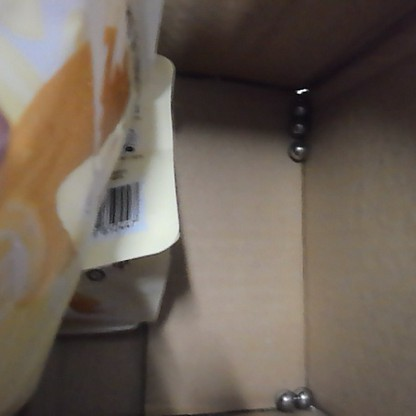ironball: (270, 383, 295, 411), (287, 138, 311, 162), (287, 114, 310, 137), (293, 382, 315, 406), (291, 94, 309, 115)
